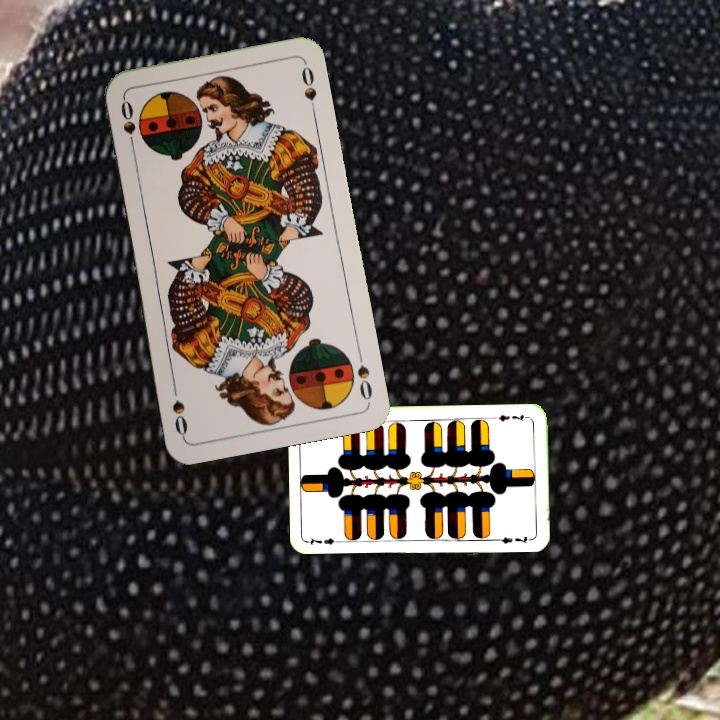E7: (491, 411, 531, 424), (305, 534, 345, 547)
SO: (353, 346, 375, 403), (117, 95, 138, 154)
